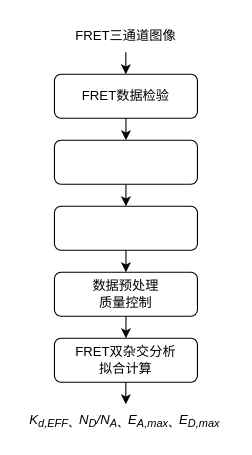
The diagram is 252 pixels wide and 455 high, and some of its shapes have lost their labels. Here are the shapes that lost their labels. From the top down, the centre of each, then its label:
At pixel 125 161: "FRET信号选取 （ROI选取）".
At pixel 125 227: "FRET定量计算 （E-FRET、3 3 -FRET ）".
